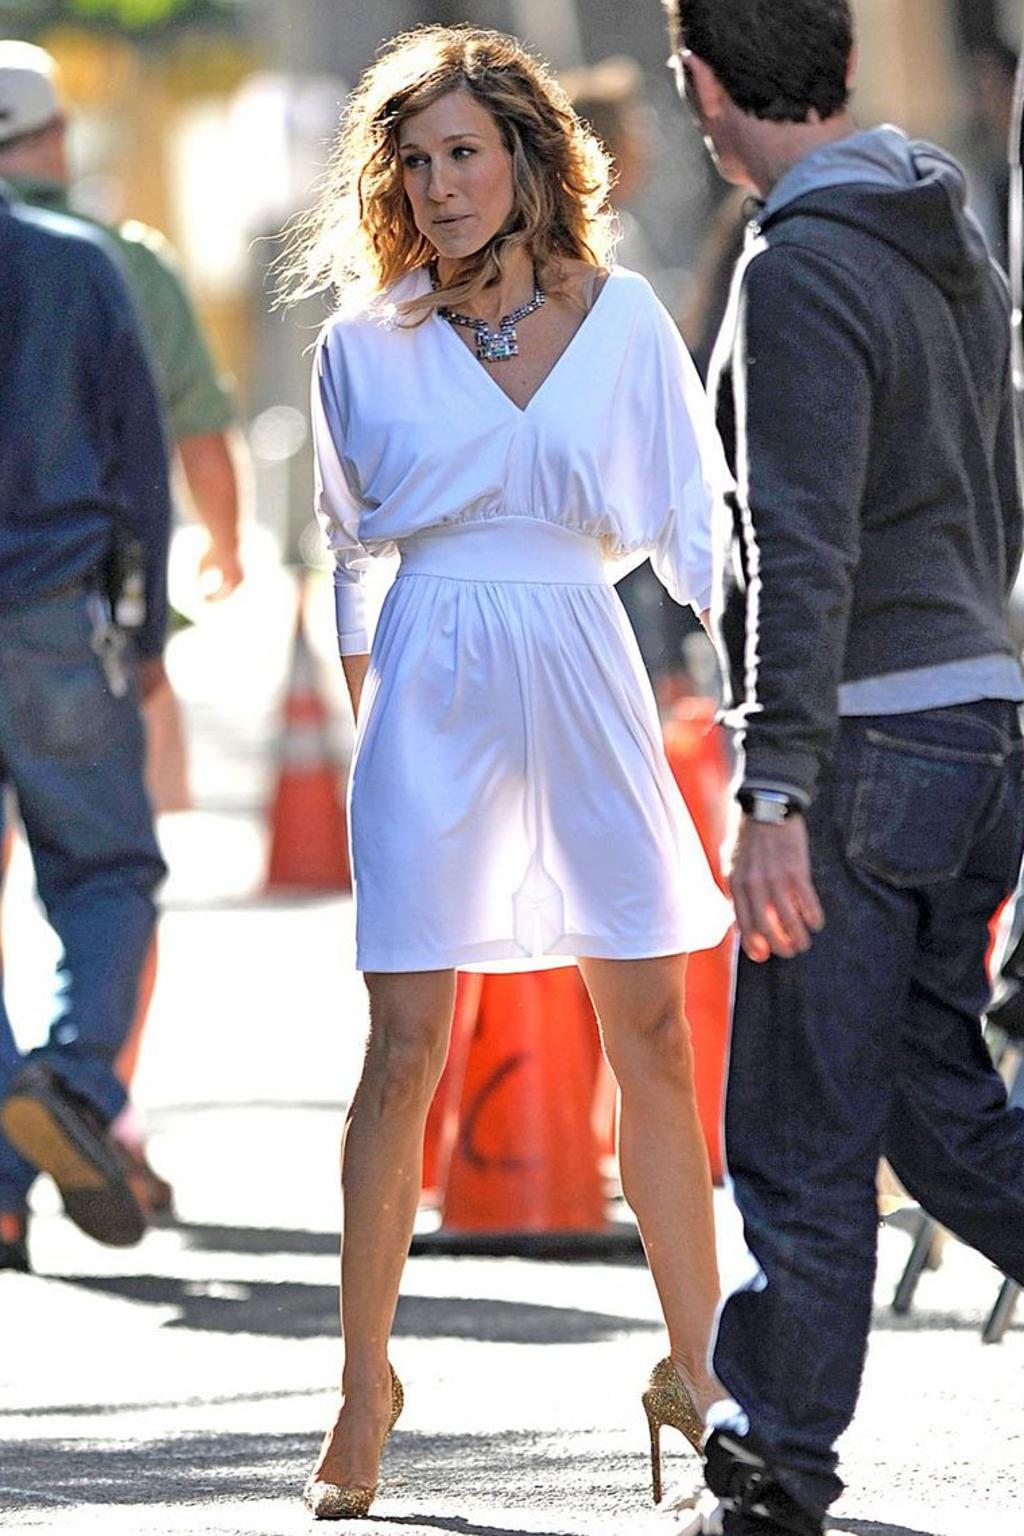face: (399, 96, 507, 261)
